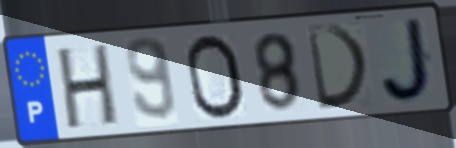8: (252, 29, 306, 115)
9: (125, 35, 181, 129)
D: (303, 22, 374, 114)
H: (56, 40, 121, 133)
J: (377, 15, 438, 106)
O: (183, 32, 248, 123)
